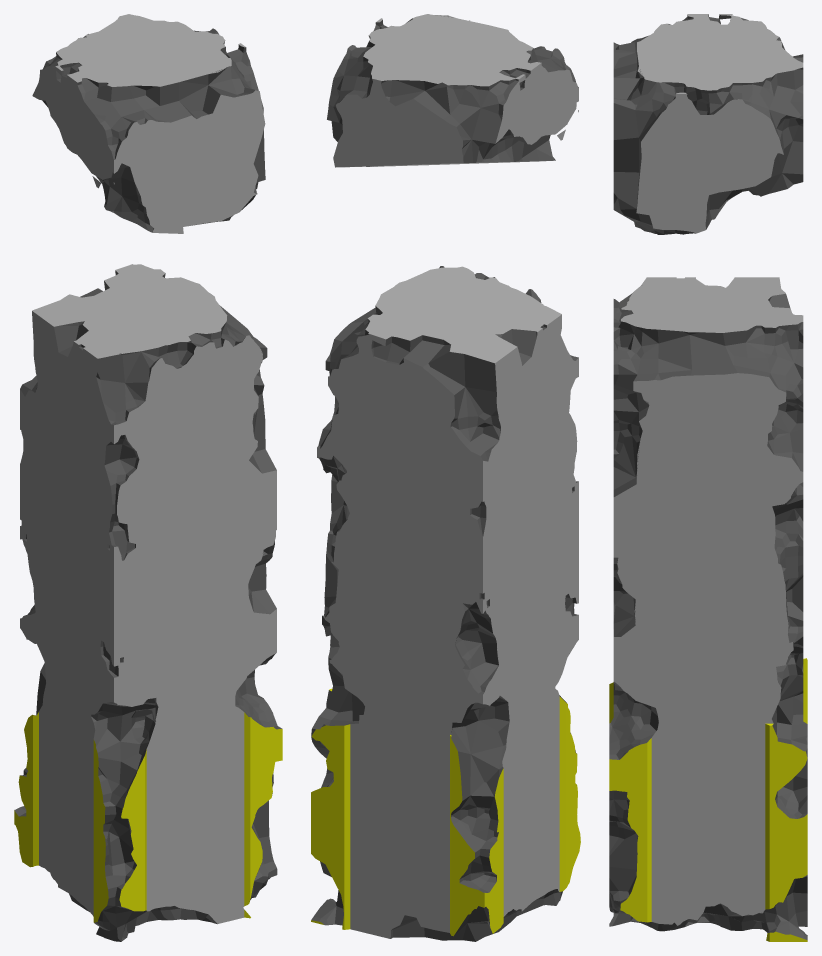
Rendered from pillar very old 1.glb.
3 views of the same model, side by side, from view 1: azimuth 30°, elevation 25°; view 2: azimuth 150°, elevation 25°; view 3: azimuth 270°, elevation 25° (orthographic).
Parts seen in each view (by area): view 1: pillier détruit.002; view 2: pillier détruit.002; view 3: pillier détruit.002.
Boxes of the visible parts, bbox=[...] form: pillier détruit.002: bbox=[14, 14, 282, 941]; pillier détruit.002: bbox=[311, 14, 580, 941]; pillier détruit.002: bbox=[609, 14, 807, 941].
Size of the model in its own units: 3.35 by 15.77 by 3.35.
